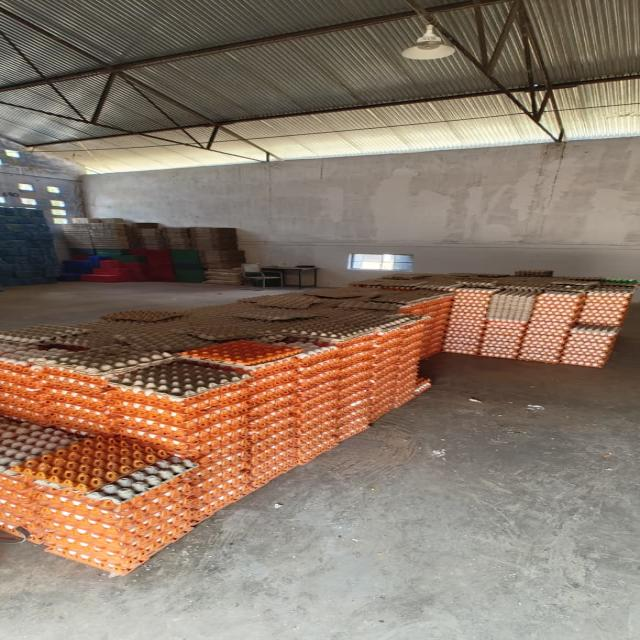egg_tray: (0, 420, 197, 572), (40, 458, 200, 574), (443, 275, 632, 362), (2, 421, 196, 504), (110, 358, 249, 456), (13, 346, 169, 432), (335, 320, 423, 439), (0, 418, 84, 542), (45, 504, 192, 574), (110, 358, 251, 430), (0, 346, 117, 431), (109, 358, 250, 428), (108, 384, 249, 450), (10, 436, 167, 492), (93, 304, 272, 352), (285, 338, 372, 429), (220, 340, 328, 412), (0, 345, 104, 416), (195, 308, 400, 340), (85, 456, 198, 513), (246, 358, 297, 479), (112, 413, 246, 458), (111, 358, 249, 400), (87, 456, 196, 503), (285, 338, 343, 424), (246, 382, 296, 476), (190, 449, 254, 522), (189, 302, 310, 340), (519, 292, 583, 363), (40, 368, 110, 432), (0, 418, 80, 473), (38, 344, 172, 375), (378, 320, 426, 406), (282, 309, 410, 341), (0, 342, 86, 388), (335, 334, 382, 414), (189, 308, 296, 343), (1, 342, 45, 423), (443, 288, 496, 354), (398, 294, 452, 358), (338, 379, 402, 431), (180, 340, 300, 366), (43, 382, 109, 428), (250, 361, 297, 424), (32, 366, 110, 403), (228, 354, 301, 393), (0, 474, 41, 543), (81, 315, 189, 341), (327, 309, 412, 342), (227, 354, 300, 392), (291, 376, 340, 430), (82, 310, 190, 334), (261, 334, 336, 366), (114, 327, 210, 352), (446, 290, 493, 341), (374, 316, 428, 360), (562, 324, 618, 366), (293, 372, 339, 423), (250, 419, 296, 469), (188, 316, 276, 342), (0, 486, 40, 543), (291, 384, 339, 430), (297, 346, 343, 393), (0, 343, 42, 392), (443, 305, 485, 354), (295, 419, 339, 464), (578, 288, 631, 325), (188, 302, 263, 328), (251, 446, 297, 488), (43, 324, 117, 350), (246, 402, 294, 442), (82, 316, 188, 334), (530, 292, 583, 328), (328, 330, 378, 368), (33, 334, 112, 358), (398, 303, 450, 339), (328, 330, 379, 366), (479, 320, 526, 358), (304, 288, 378, 312), (519, 328, 567, 363), (0, 325, 87, 344), (336, 380, 376, 421), (296, 425, 338, 464), (251, 370, 295, 407), (349, 276, 423, 298), (311, 292, 377, 316), (369, 347, 401, 396), (0, 391, 49, 423), (284, 337, 338, 366), (412, 312, 448, 354), (321, 288, 391, 308), (531, 292, 584, 318), (488, 292, 533, 322), (185, 302, 252, 322), (282, 322, 356, 340), (234, 306, 322, 321), (0, 342, 44, 371), (338, 350, 372, 387), (452, 288, 498, 315), (333, 409, 368, 444), (397, 296, 451, 318), (560, 343, 609, 367), (375, 290, 452, 305), (239, 294, 319, 308), (525, 317, 573, 340), (492, 290, 536, 315), (183, 302, 240, 321), (523, 320, 571, 342), (371, 278, 459, 290), (500, 276, 575, 290), (422, 315, 446, 358), (443, 325, 484, 350), (101, 310, 186, 322), (423, 273, 499, 286), (444, 320, 485, 344), (587, 284, 636, 304), (400, 318, 428, 352), (519, 342, 563, 363), (578, 306, 626, 325), (448, 308, 486, 332), (397, 298, 450, 315), (485, 319, 527, 340), (446, 272, 507, 286), (531, 304, 578, 322), (572, 324, 619, 342), (255, 328, 311, 343), (497, 276, 552, 291), (302, 287, 377, 298), (418, 274, 465, 291), (442, 334, 481, 354), (374, 278, 438, 290), (560, 352, 608, 368), (301, 298, 343, 316), (306, 298, 343, 318), (478, 340, 519, 358), (545, 278, 597, 292), (455, 284, 500, 300), (339, 300, 397, 312), (206, 347, 251, 362), (418, 278, 460, 293), (483, 335, 520, 352), (483, 333, 520, 350), (489, 307, 530, 322), (478, 344, 518, 359), (349, 278, 394, 290), (553, 276, 605, 286), (478, 346, 518, 358), (422, 334, 442, 358), (504, 284, 551, 294), (602, 279, 638, 292), (0, 339, 29, 355), (423, 290, 454, 304), (384, 272, 437, 280), (450, 272, 508, 279), (463, 277, 497, 288), (413, 378, 431, 394), (423, 340, 440, 356), (515, 270, 553, 276), (9, 408, 26, 417), (396, 316, 411, 326), (438, 274, 459, 280), (581, 278, 596, 285), (254, 305, 274, 310), (442, 280, 456, 286), (98, 422, 107, 430), (242, 304, 253, 310), (280, 308, 296, 312), (393, 290, 408, 294), (252, 479, 260, 486), (363, 345, 368, 356), (119, 456, 128, 462), (317, 438, 323, 447), (236, 332, 245, 338), (411, 375, 415, 388), (367, 281, 372, 290), (240, 304, 251, 308), (150, 346, 159, 350), (223, 343, 235, 346), (282, 322, 294, 325), (99, 468, 107, 472), (190, 354, 203, 356), (12, 414, 25, 416), (120, 465, 125, 470), (60, 350, 66, 354), (354, 282, 362, 285), (357, 428, 363, 432), (461, 274, 471, 276), (400, 322, 405, 326), (136, 348, 145, 350), (245, 304, 254, 306), (380, 282, 384, 286), (102, 372, 109, 374), (401, 316, 408, 318), (473, 274, 479, 276), (385, 334, 387, 340), (15, 415, 26, 416), (426, 274, 437, 275), (317, 310, 322, 312), (263, 365, 266, 368), (496, 312, 499, 315), (157, 452, 161, 454), (577, 286, 581, 288), (495, 316, 499, 318), (311, 312, 315, 314), (433, 286, 437, 288), (365, 372, 367, 376), (362, 289, 366, 291), (229, 304, 232, 306), (85, 416, 88, 418), (374, 398, 377, 400), (331, 380, 334, 382), (102, 465, 108, 466), (52, 460, 55, 462), (409, 287, 415, 288), (308, 292, 311, 294), (357, 298, 362, 299), (4, 459, 6, 461), (284, 468, 287, 469), (571, 362, 574, 363), (240, 352, 241, 354), (340, 438, 342, 439), (10, 472, 11, 474), (52, 458, 53, 460), (134, 354, 136, 355), (592, 364, 594, 365), (461, 277, 462, 279), (94, 460, 95, 461), (5, 411, 6, 412), (256, 368, 258, 368), (302, 318, 302, 318), (308, 292, 309, 292), (118, 409, 119, 409), (76, 470, 77, 470), (122, 363, 124, 363), (333, 312, 334, 312), (458, 283, 461, 283), (468, 285, 471, 285), (228, 306, 231, 306), (353, 434, 354, 434), (338, 312, 338, 312), (402, 275, 404, 275)
